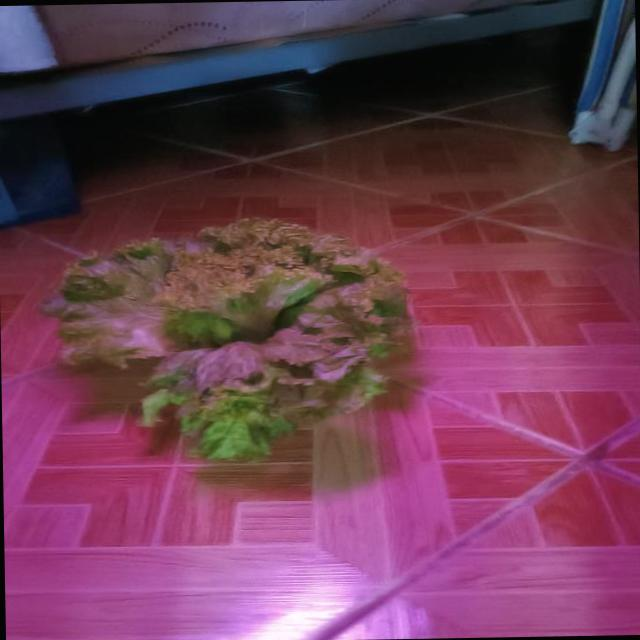Lettuce-Ready-to-Harvest: (46, 218, 419, 463)
